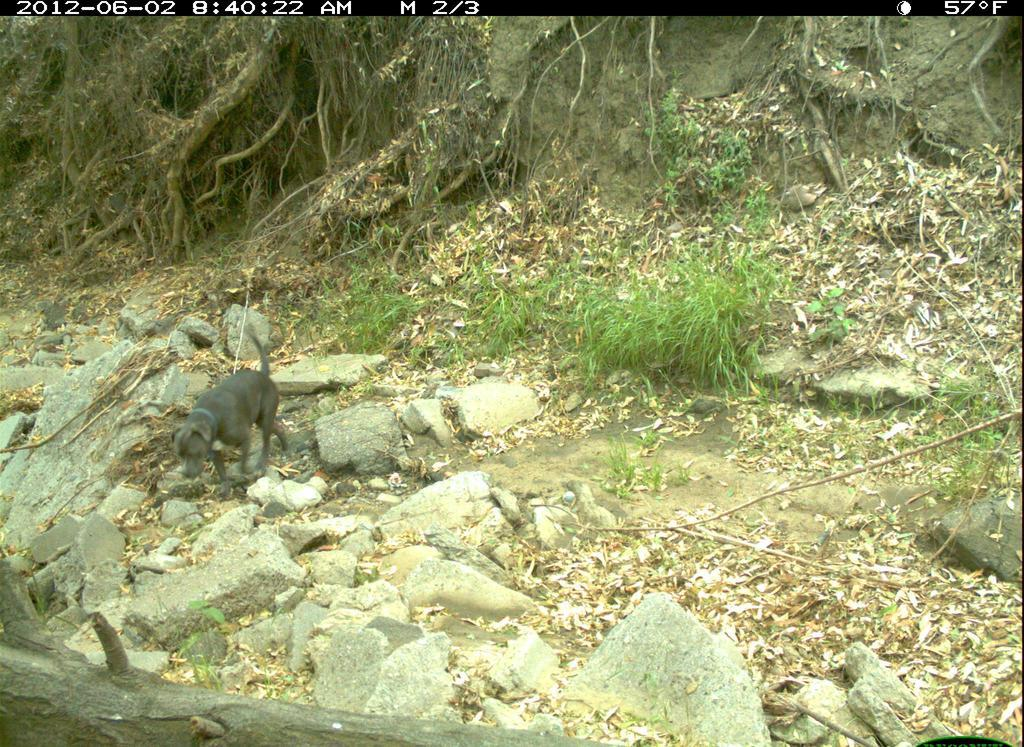dog: (171, 326, 295, 502)
